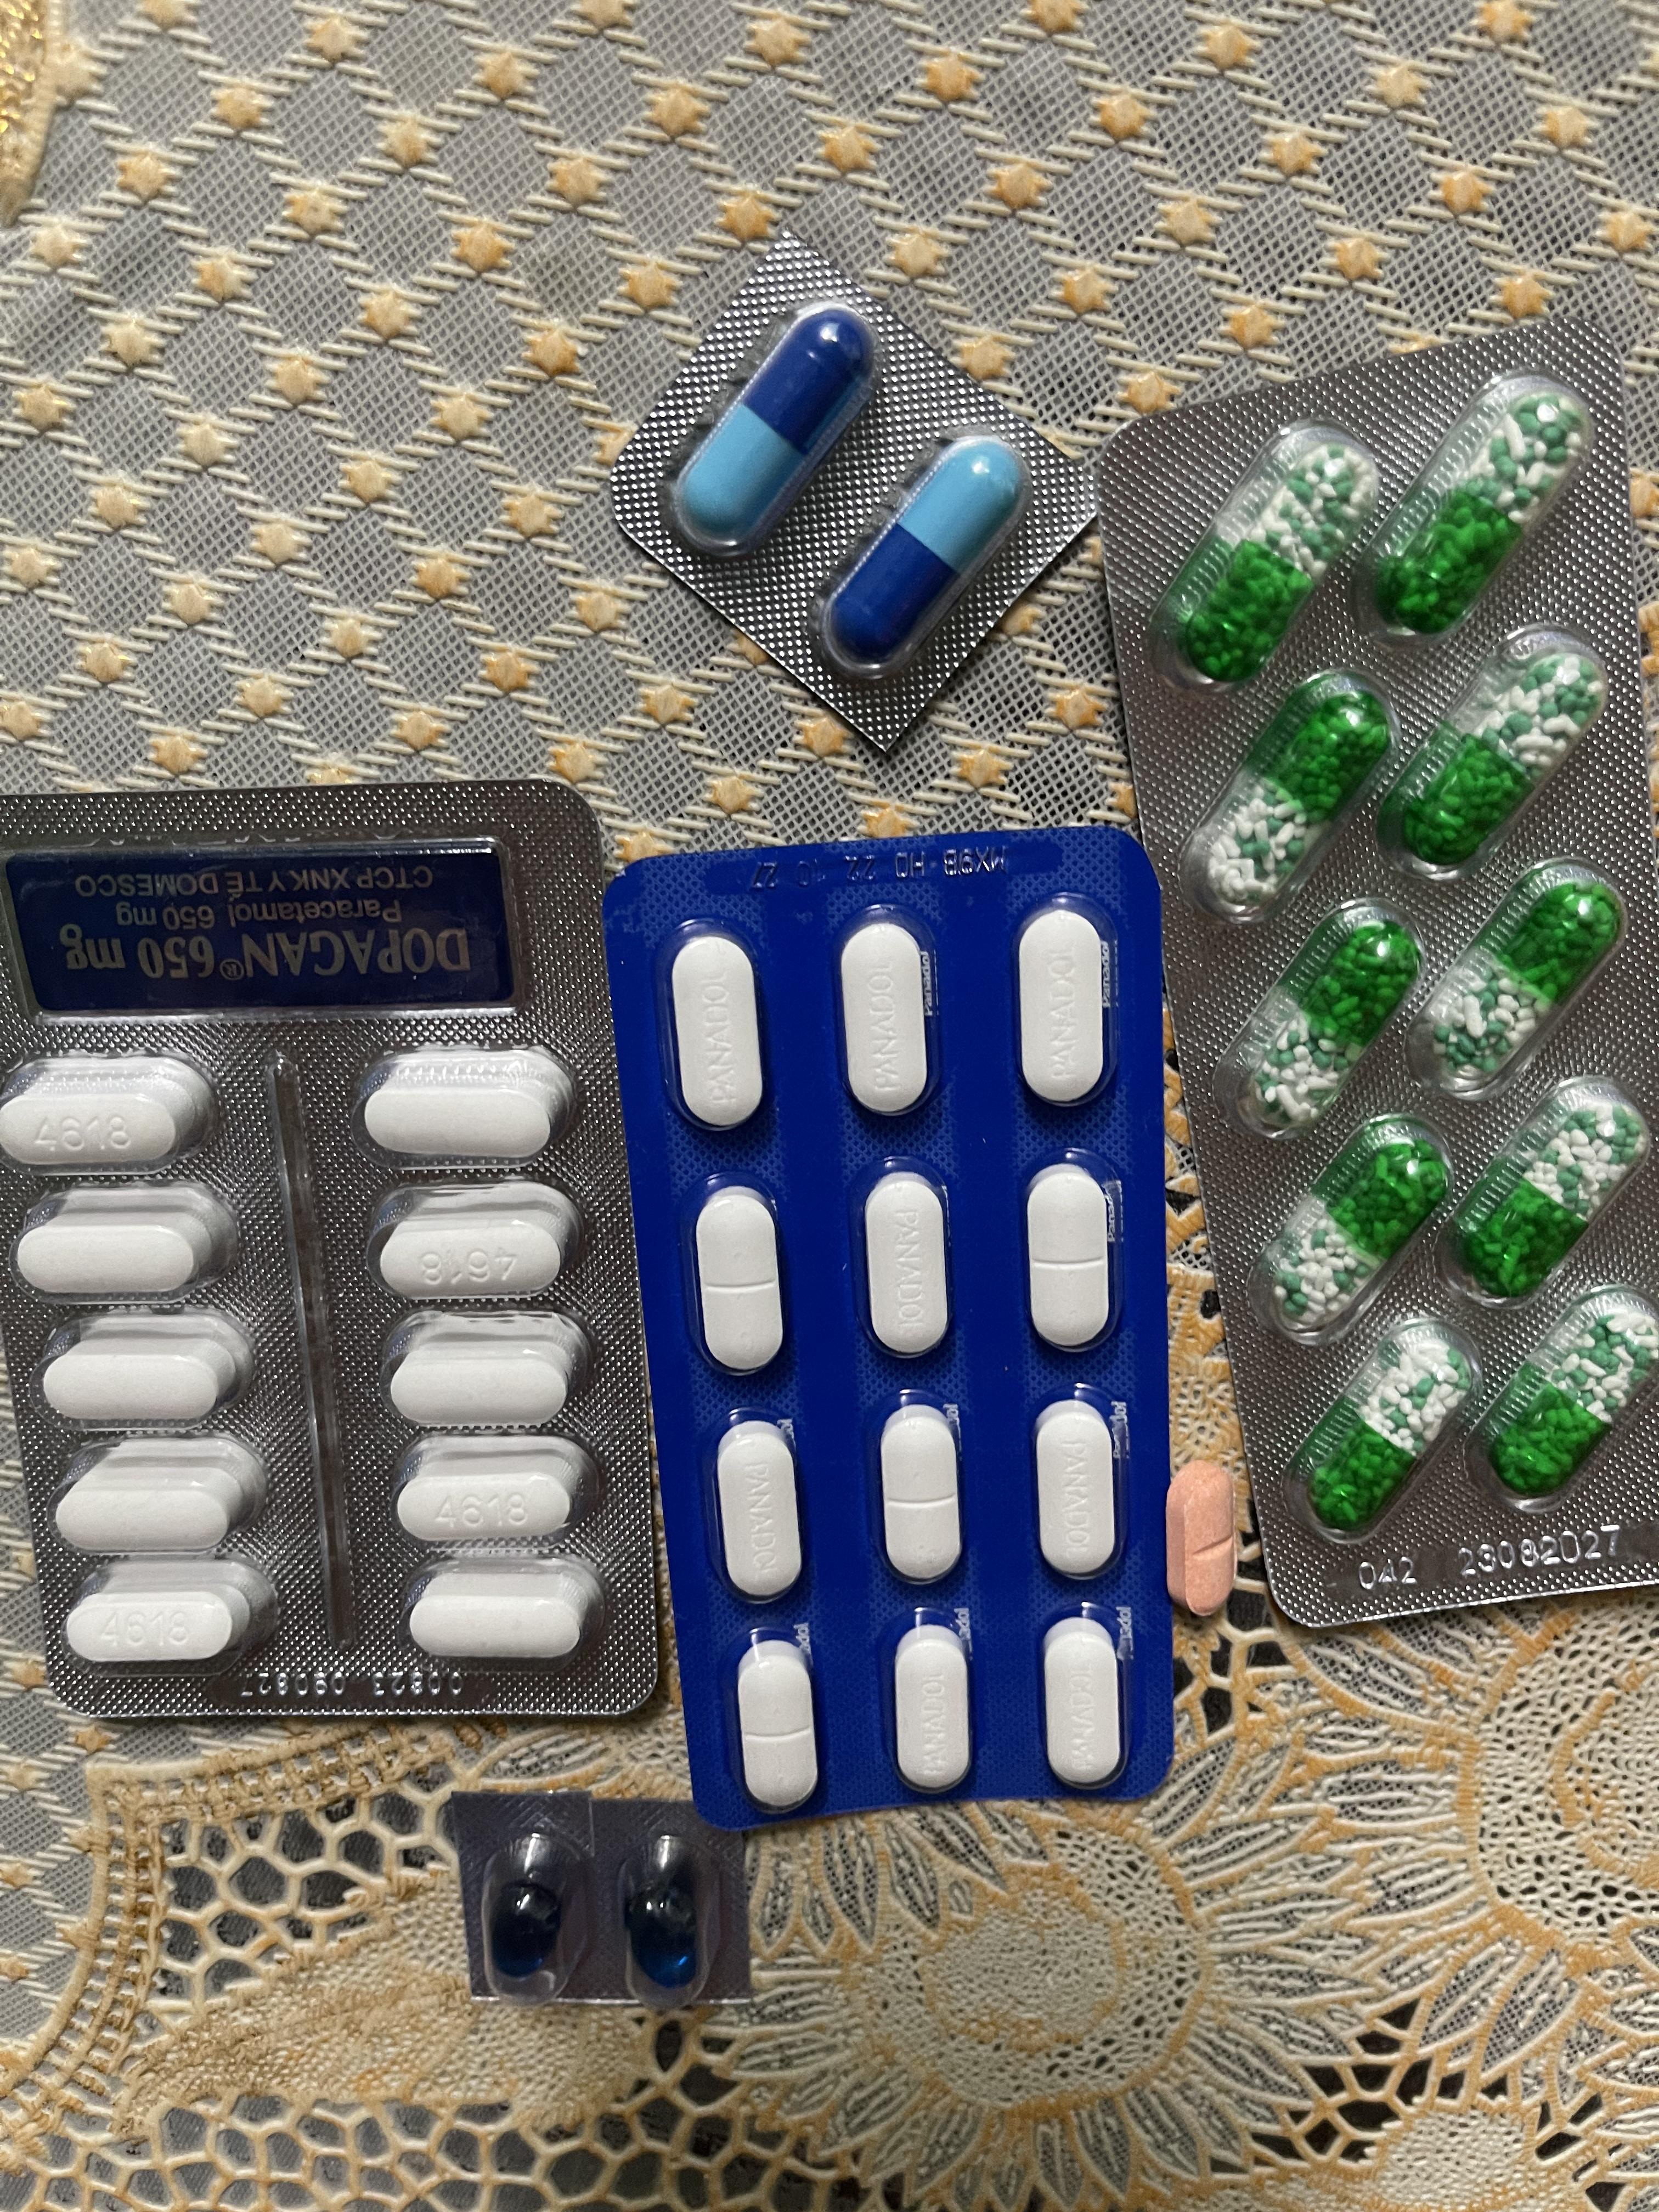Lincomyxin_500mg: (624, 1883, 699, 1986), (488, 1881, 565, 1980)
Loratadine_10mg: (1168, 1461, 1234, 1613)
Paracetamol_350mg: (1014, 906, 1112, 1104), (669, 934, 765, 1129), (838, 920, 932, 1116), (694, 1186, 784, 1376), (863, 1174, 951, 1360), (714, 1421, 803, 1604), (1026, 1165, 1114, 1352), (1033, 1397, 1121, 1581), (878, 1399, 962, 1583), (1040, 1613, 1124, 1794), (734, 1635, 817, 1811), (892, 1618, 972, 1797)
Paracetamol_500mg: (357, 1049, 577, 1163), (51, 1442, 265, 1554), (369, 1184, 580, 1298), (17, 1188, 235, 1296), (0, 1062, 209, 1172), (38, 1315, 253, 1421), (68, 1561, 275, 1669), (383, 1318, 584, 1430), (396, 1435, 592, 1543), (408, 1561, 599, 1662)
Paracetamol_650mg: (1375, 390, 1591, 636), (1180, 446, 1375, 685), (1399, 653, 1608, 864), (1420, 881, 1628, 1083), (1199, 690, 1389, 900), (1450, 1097, 1649, 1294), (1237, 920, 1420, 1127), (1265, 1132, 1450, 1329), (1302, 1325, 1473, 1529), (1483, 1303, 1657, 1496)
pill: (812, 430, 1030, 676), (678, 308, 868, 538)
